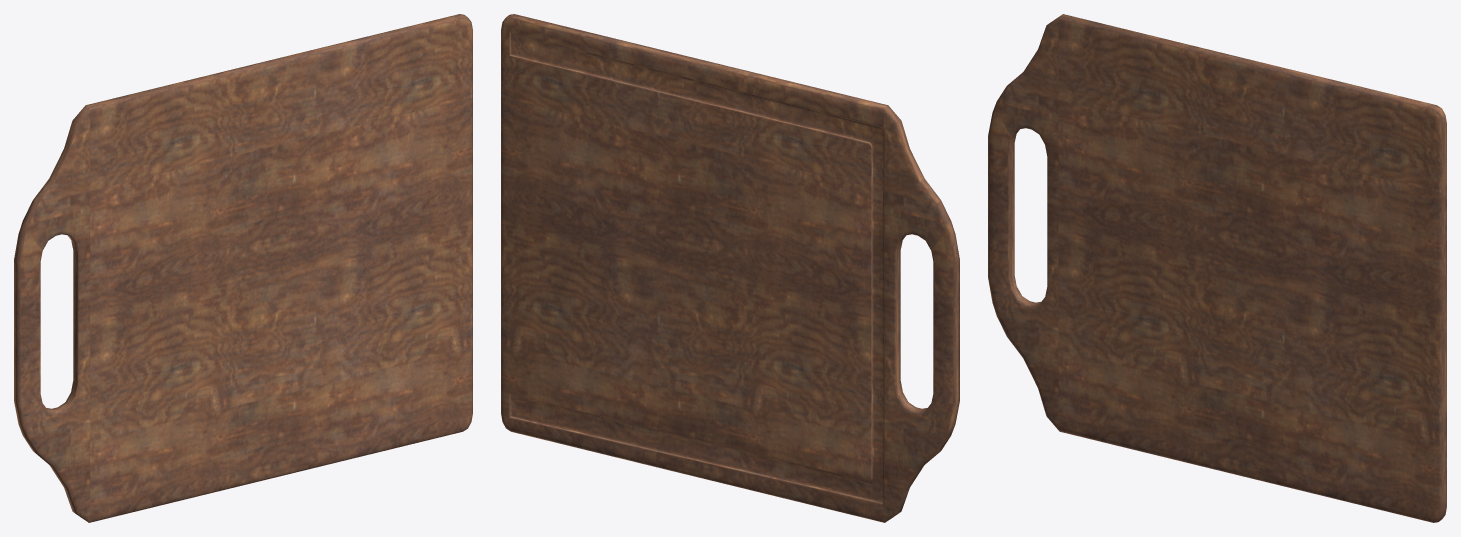
3 views of the same model, side by side, from view 1: azimuth 30°, elevation 25°; view 2: azimuth 150°, elevation 25°; view 3: azimuth 330°, elevation 25° (orthographic).
Parts seen in each view (by area): view 1: Object_2; view 2: Object_2; view 3: Object_2.
Part boxes in pixels (box(x1,y1,x2,y2)): Object_2: box(14, 14, 472, 522); Object_2: box(501, 14, 959, 522); Object_2: box(988, 14, 1446, 522).
Size of the model in its own units: 0.1262 by 0.11 by 0.00268.
1 material, 1 textured.
